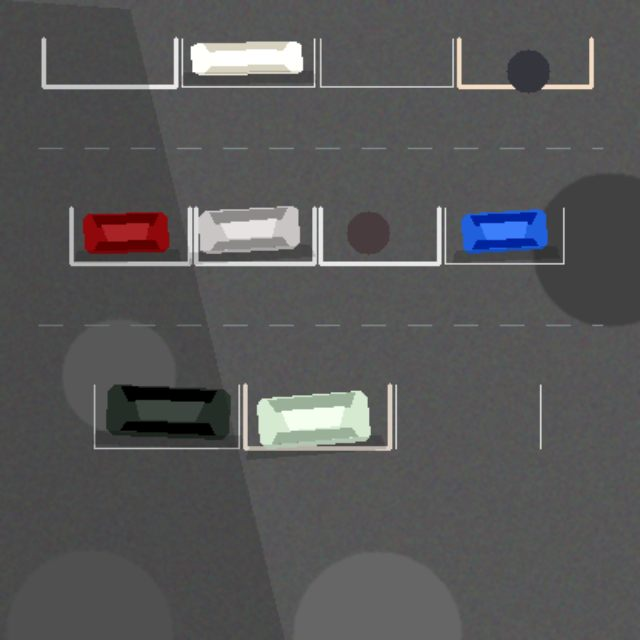space-empty: (395, 385, 540, 448), (320, 208, 438, 263), (458, 38, 591, 86), (43, 38, 175, 86), (320, 38, 452, 86)
space-occupied: (94, 385, 238, 448), (245, 385, 389, 448), (195, 208, 314, 263), (71, 208, 189, 263), (445, 208, 563, 263), (182, 38, 314, 86)
